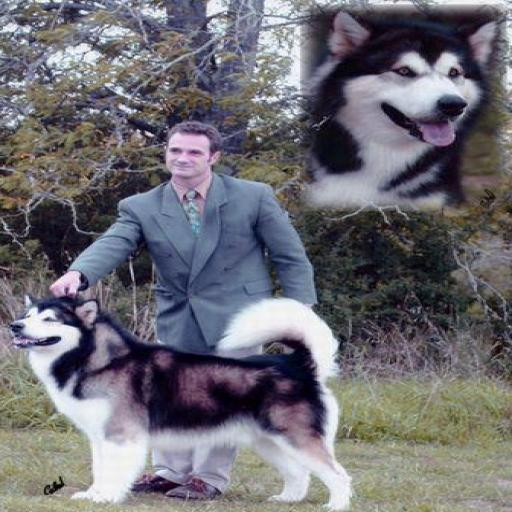dog_face: (324, 16, 502, 149), (19, 293, 111, 357)
